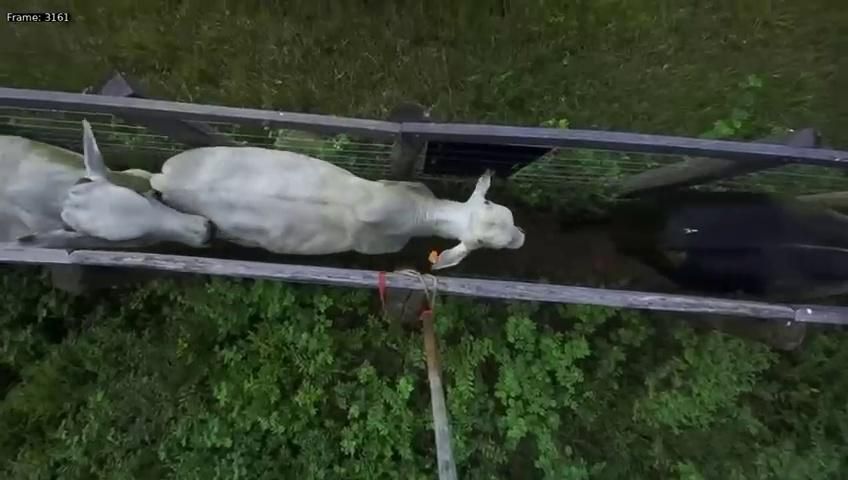cattle: (144, 135, 525, 270), (0, 119, 217, 261)
